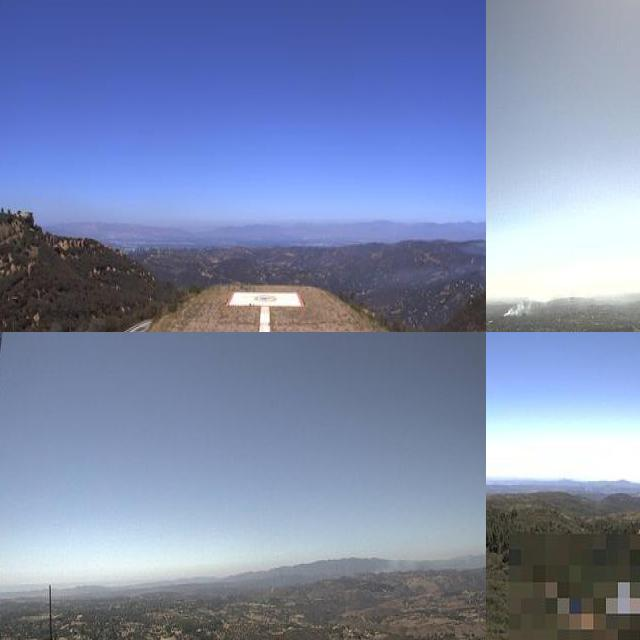smoke: (369, 547, 438, 576), (502, 282, 547, 316)
